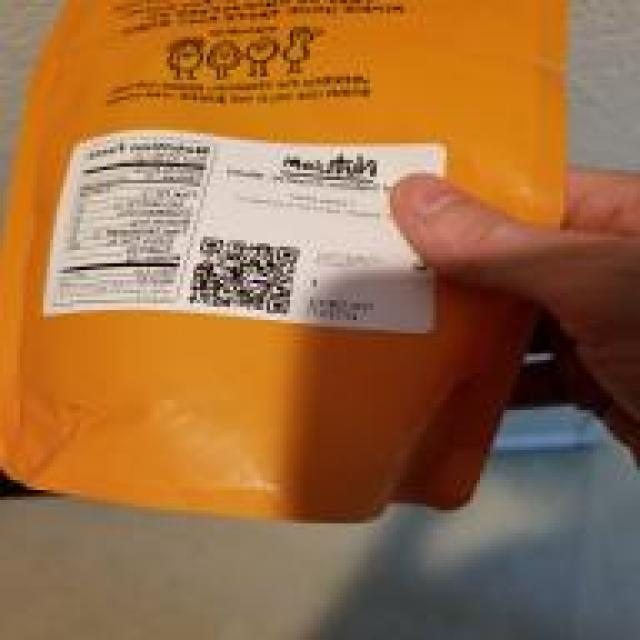QR_CODE: (176, 234, 306, 318)
